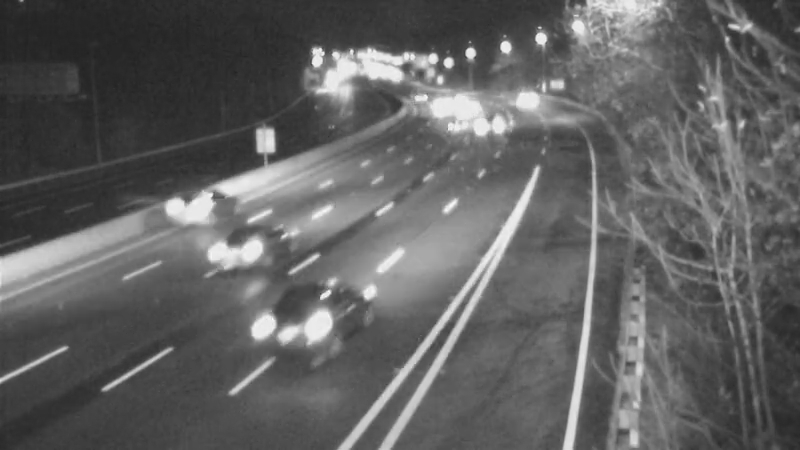vehicle: (233, 280, 343, 390), (152, 164, 232, 244), (198, 210, 278, 290), (391, 72, 441, 122), (500, 72, 550, 122), (468, 97, 518, 147), (434, 98, 484, 148)
